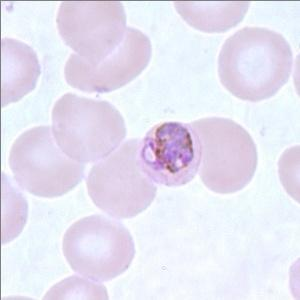Infected: (138, 122, 202, 187)
Uninfected: (217, 26, 295, 102), (61, 32, 154, 94), (90, 142, 162, 218), (9, 125, 84, 195), (50, 93, 126, 161), (193, 117, 258, 195), (63, 216, 136, 278), (59, 0, 127, 64)
